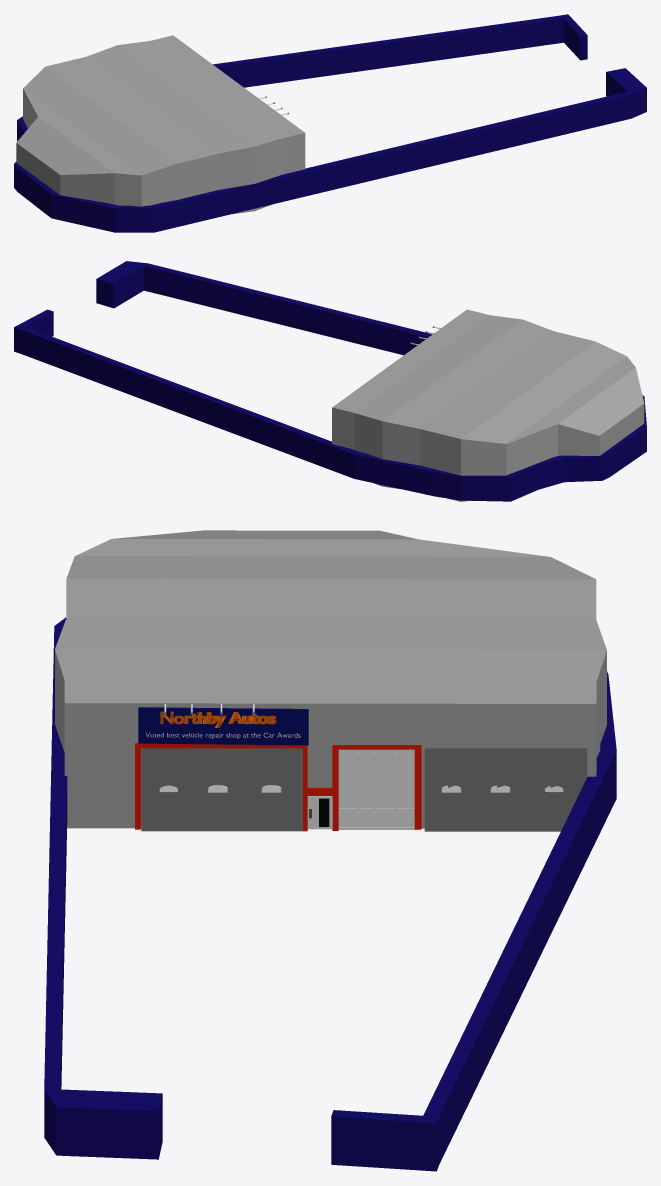
File: NorthbyAutosCompound.fbx
3 views of the same model, one above another, from view 1: azimuth 30°, elevation 25°; view 2: azimuth 150°, elevation 25°; view 3: azimuth 270°, elevation 25° (orthographic). The views are drawn at different scales.
Parts seen in each view (by area): view 1: NorthbyAutosGarage, NorthbyCompoundPerimeterFence; view 2: NorthbyAutosGarage, NorthbyCompoundPerimeterFence; view 3: NorthbyAutosGarage, NorthbyCompoundPerimeterFence, GarageDoor, GarageDoor.001, Window, NorthbyAutosSign, GarageDoorFrame, NORTHBYAUTOSSIGN.
Part boxes in pixels (x1,y1,x2,y2): NorthbyAutosGarage: [16, 35, 305, 214]; NorthbyCompoundPerimeterFence: [14, 14, 646, 232]; NorthbyAutosGarage: [332, 309, 644, 501]; NorthbyCompoundPerimeterFence: [14, 261, 646, 501]; NorthbyAutosGarage: [55, 530, 606, 828]; NorthbyCompoundPerimeterFence: [44, 617, 616, 1171]; GarageDoor: [141, 748, 302, 831]; GarageDoor.001: [424, 748, 587, 831]; Window: [338, 749, 417, 829]; NorthbyAutosSign: [138, 707, 308, 745]; GarageDoorFrame: [135, 743, 421, 831]; NORTHBYAUTOSSIGN: [160, 711, 276, 727].
Size of the model in its own units: 4966 by 538 by 2152.
